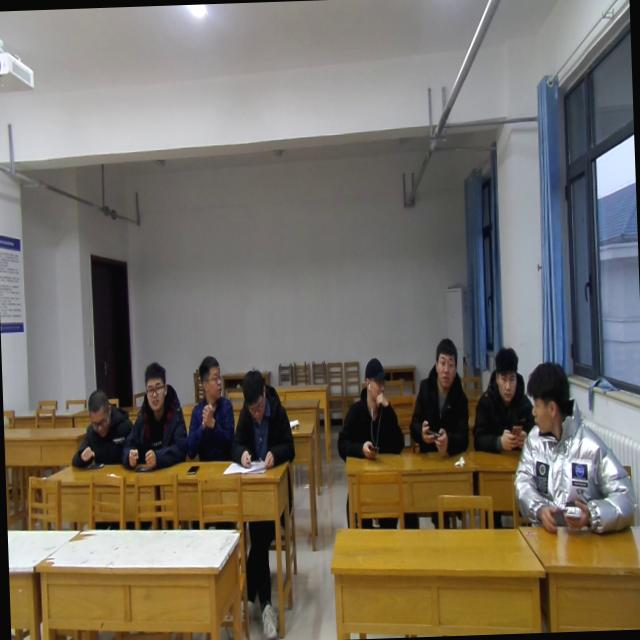bow: (66, 385, 136, 469)
down: (236, 363, 272, 425), (489, 344, 522, 403), (82, 386, 114, 437)
lookup: (428, 332, 459, 388), (140, 358, 168, 414)
sit: (509, 358, 637, 534), (404, 336, 472, 457), (331, 356, 407, 462), (119, 359, 189, 474), (468, 343, 538, 453), (228, 366, 297, 475), (182, 352, 240, 462)
